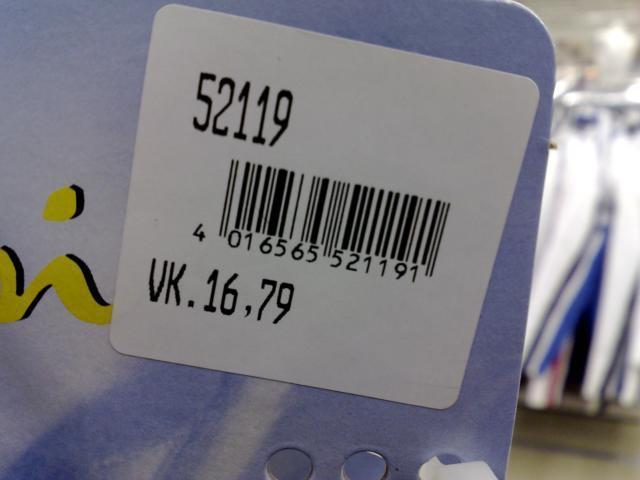Barcode: (183, 151, 465, 295)
